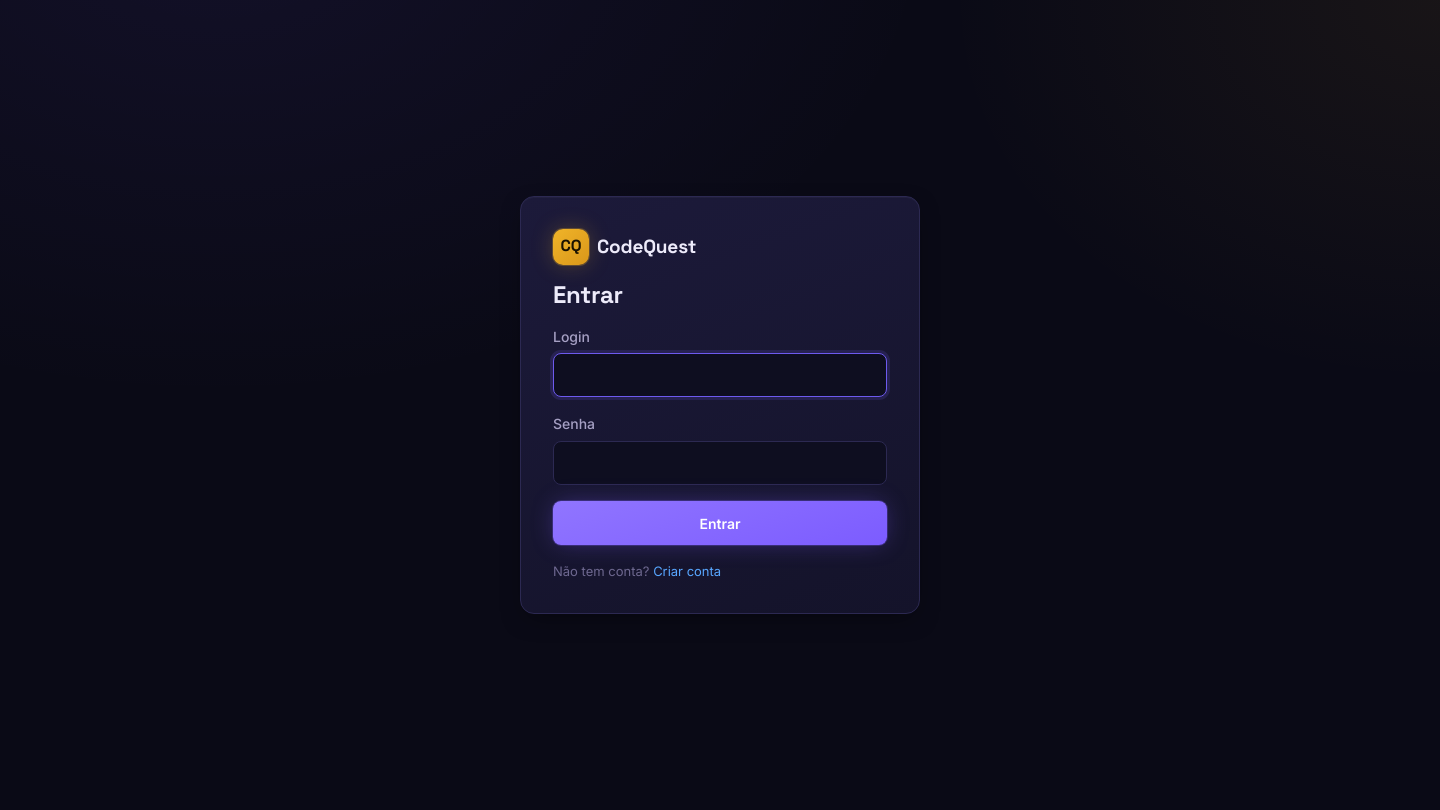
Login › mostra a mensagem de erro do backend e não navega quando o login falha
The image size is (1440, 810).
Type "diogo" into the field labelled "Login" at point(720, 375), box [553,353,887,397]
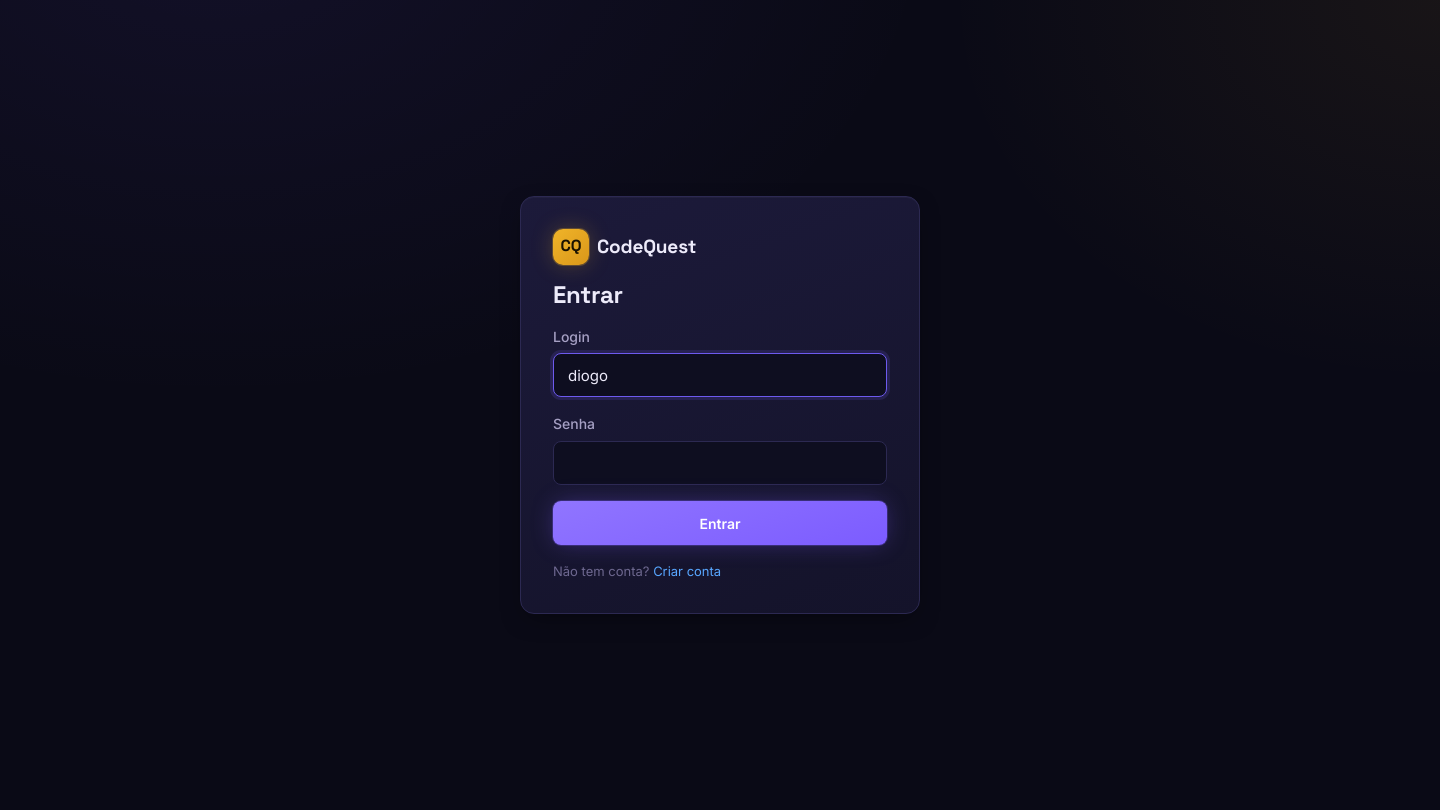
Type "senhaerrada" into the password field labelled "Senha" at point(720, 463), box [553,441,887,485]
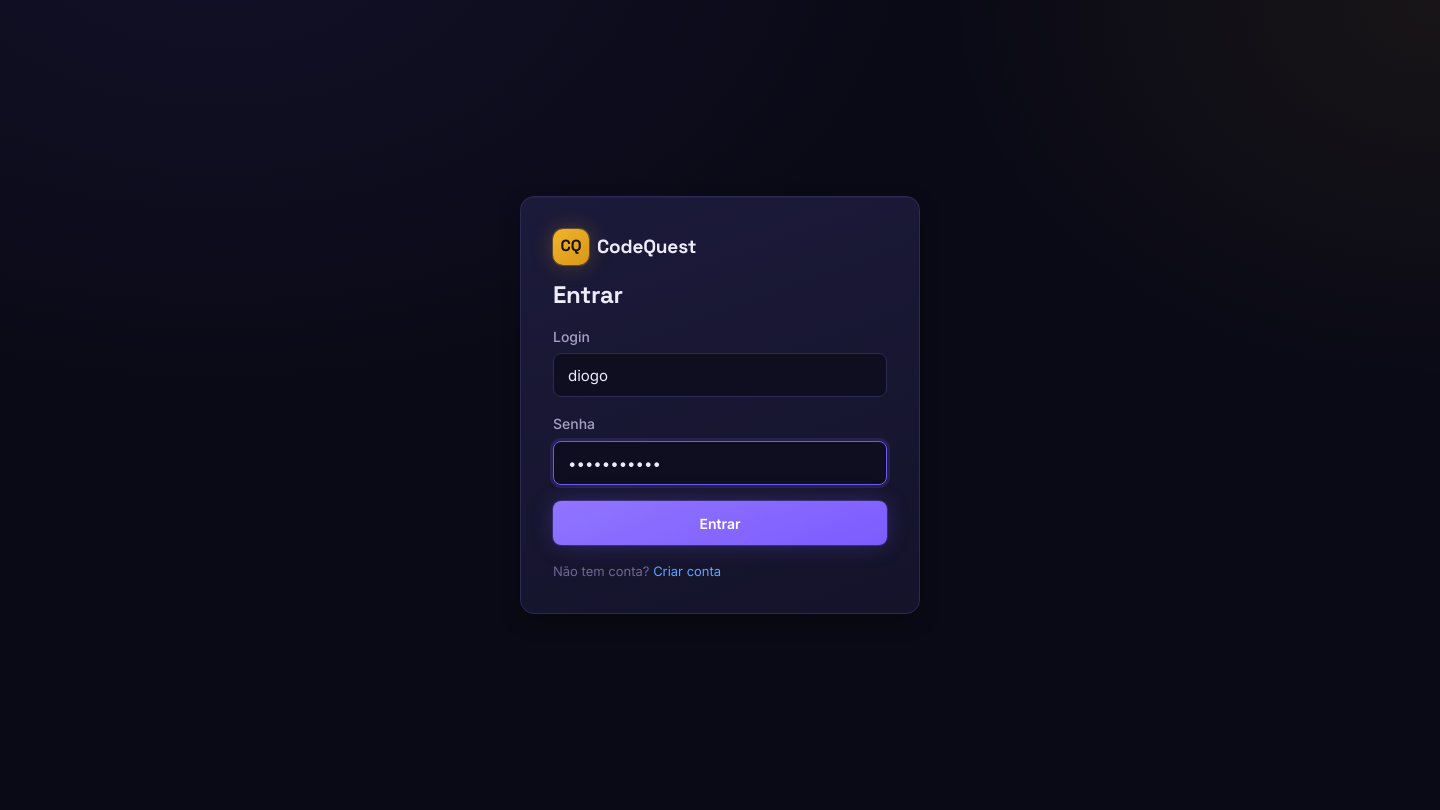
Click the button "Entrar" at point(720, 523), box [553,501,887,545]
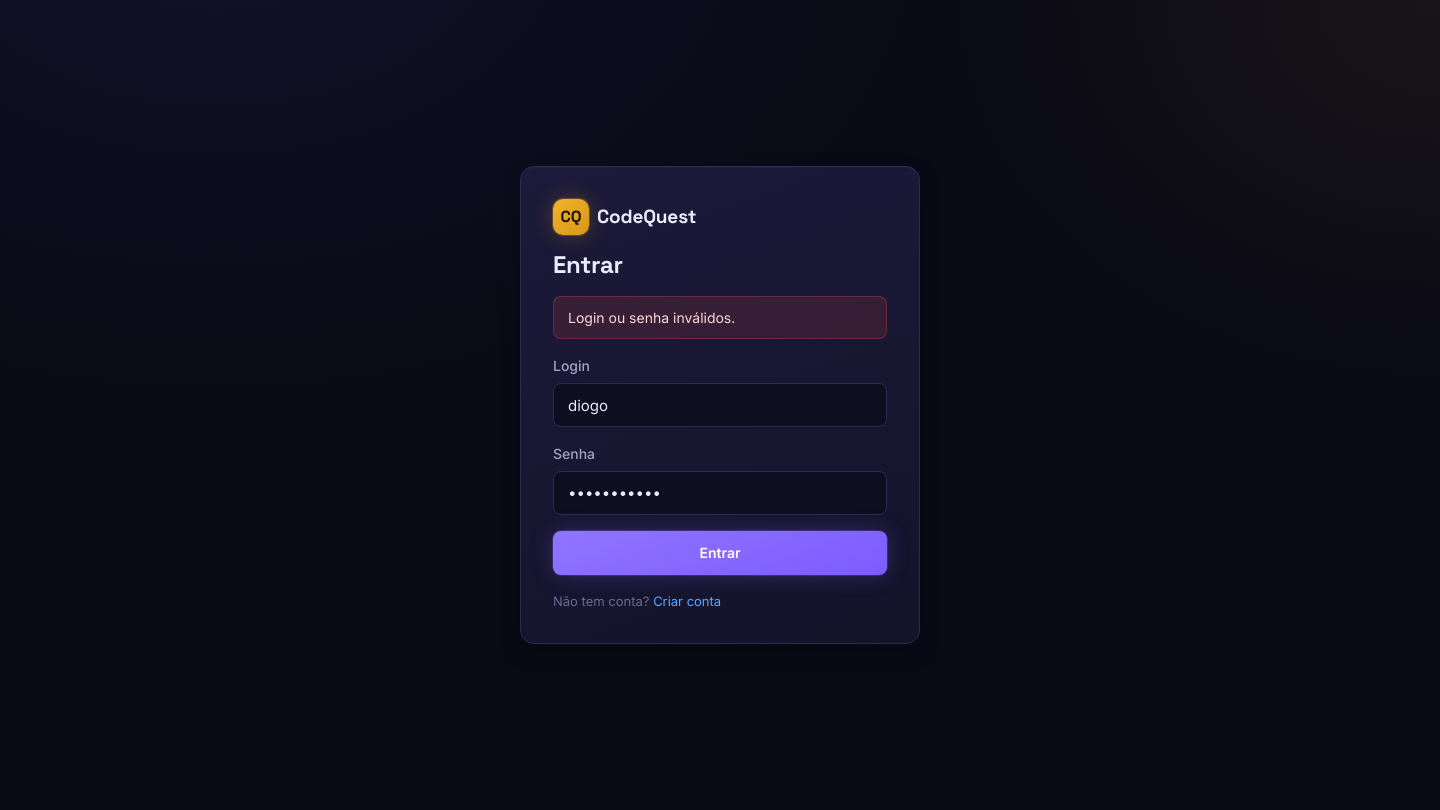
expect the text "Login ou senha inválidos." is shown: met, box [553,296,887,340]
